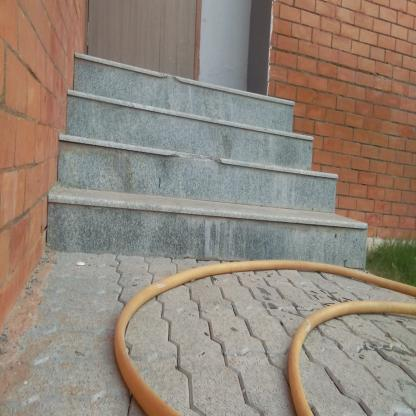stairs: (70, 127, 324, 281)
